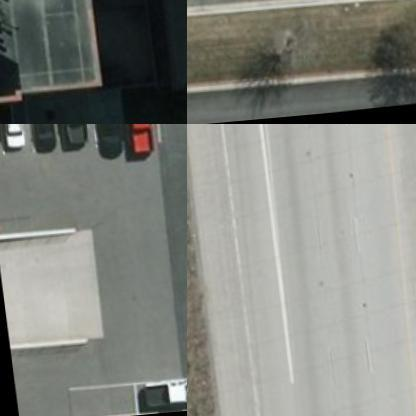car: (128, 383, 186, 410), (25, 124, 61, 164), (122, 124, 156, 165), (59, 124, 90, 152), (0, 124, 26, 154), (94, 124, 122, 150)
